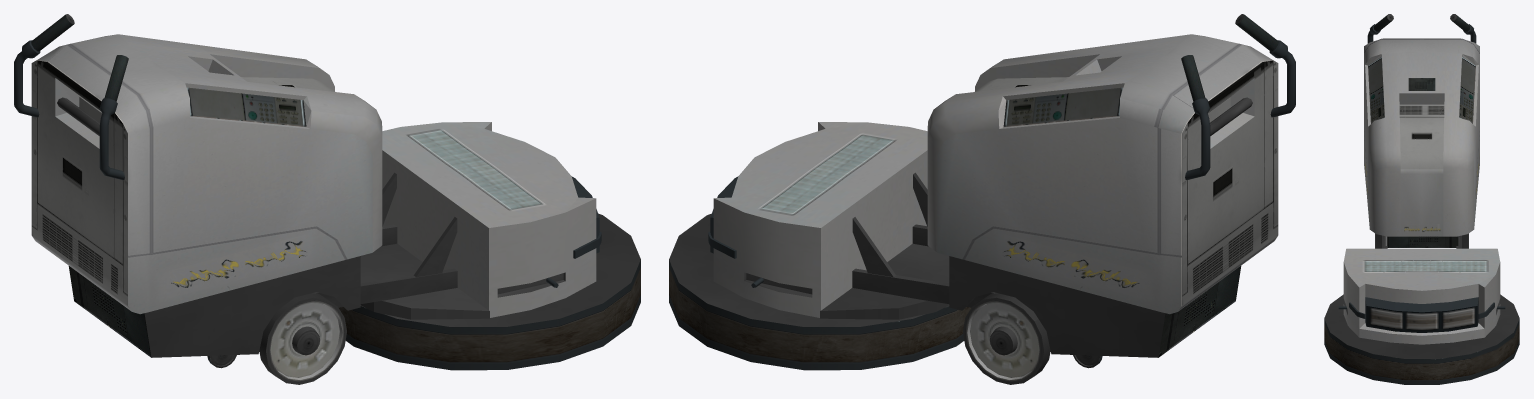
The model's file is burnisher-1.FBX.
3 renders of one model, left to right at view 1: azimuth 30°, elevation 25°; view 2: azimuth 150°, elevation 25°; view 3: azimuth 270°, elevation 25°, orthographic. The views are drawn at different scales.
Parts seen in each view (by area): view 1: burnisher-1_LOD0; view 2: burnisher-1_LOD0; view 3: burnisher-1_LOD0.
Boxes of the visible parts, box(x1,y1,x2,y2) form: burnisher-1_LOD0: box(14, 14, 640, 384); burnisher-1_LOD0: box(669, 14, 1295, 384); burnisher-1_LOD0: box(1324, 14, 1519, 384).
Size of what is drawn, in the model's own units: 70.39 by 43.55 by 35.42.
1 material, 1 textured.
